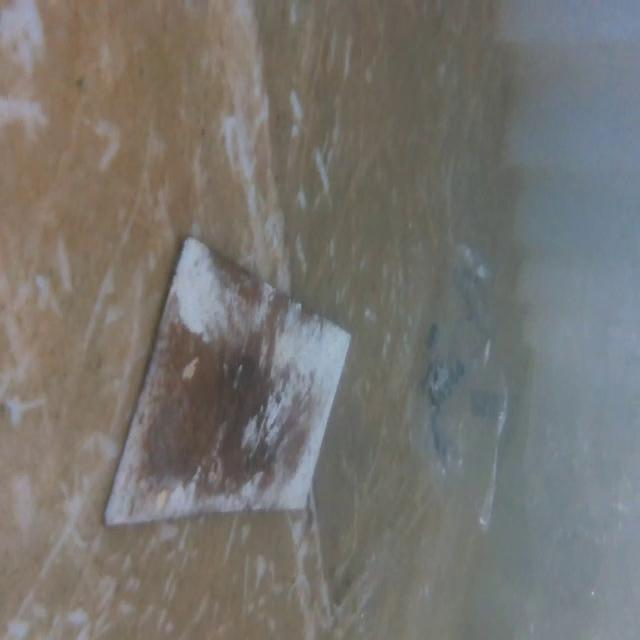plastic bags: (401, 239, 518, 536)
